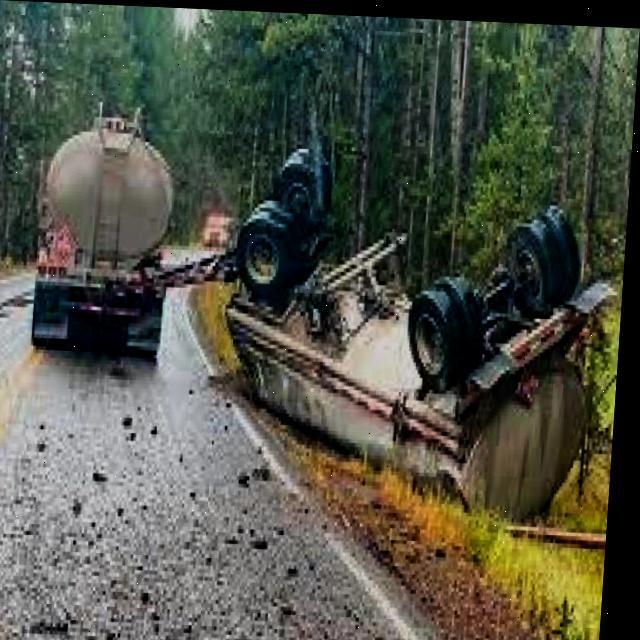normal: (63, 101, 187, 356)
single accident: (214, 157, 606, 484)
